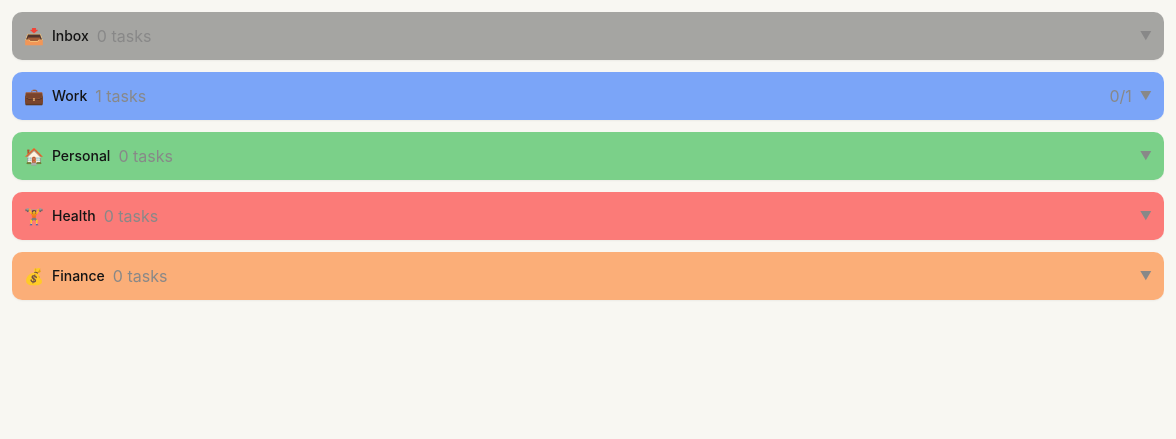
ProjectsView › expands category to show tasks on click
Click the button "💼 Work 1 tasks 0/1 ▼".
click(70, 96)  # box [12, 72, 1164, 120]
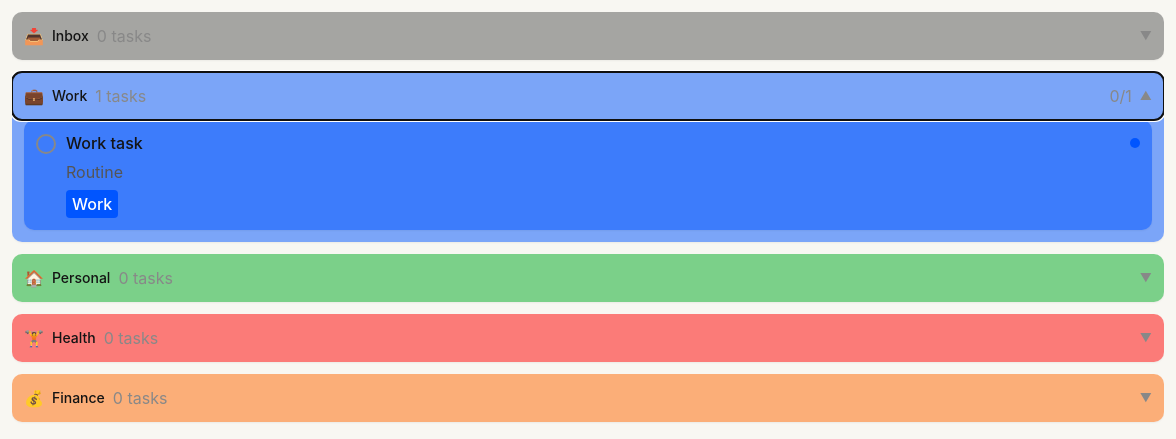
Now the text "Work task" is shown, box [66, 133, 143, 153]
